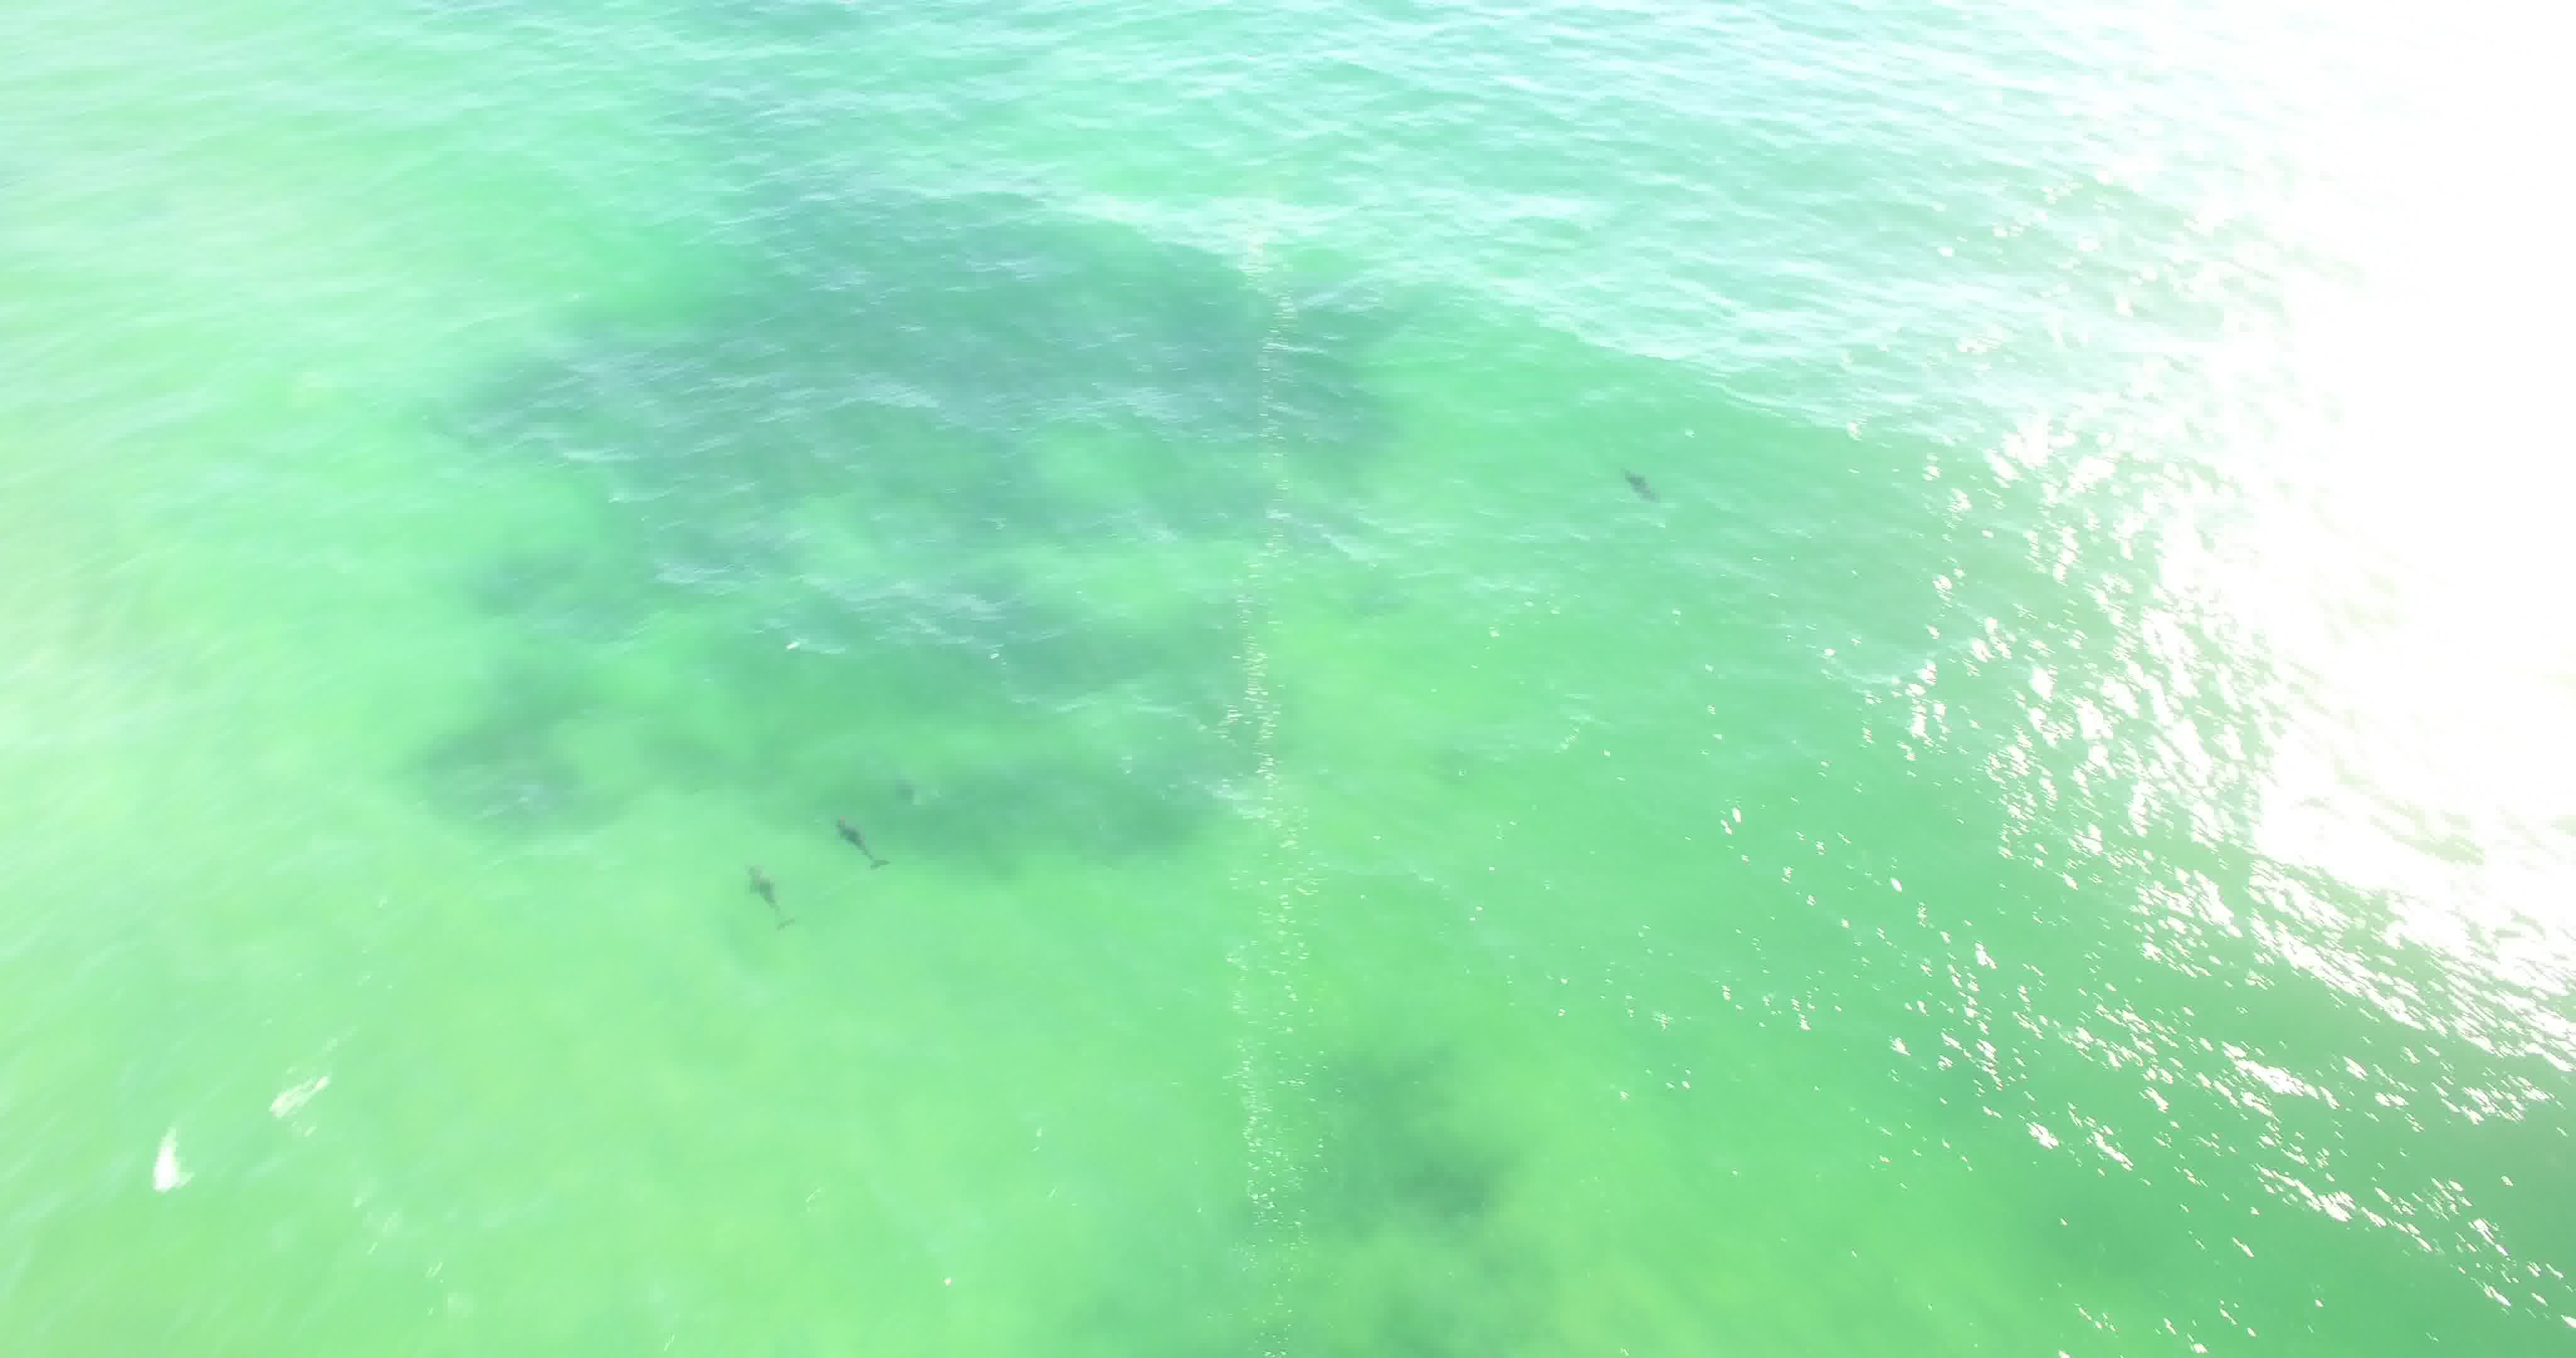dolphin: (1595, 443, 1675, 523), (809, 803, 891, 874), (729, 842, 791, 924)
